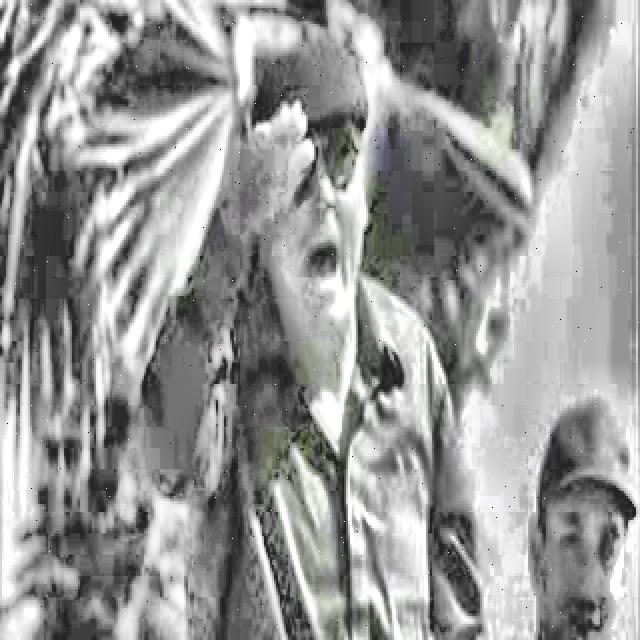T: (134, 33, 483, 640)
